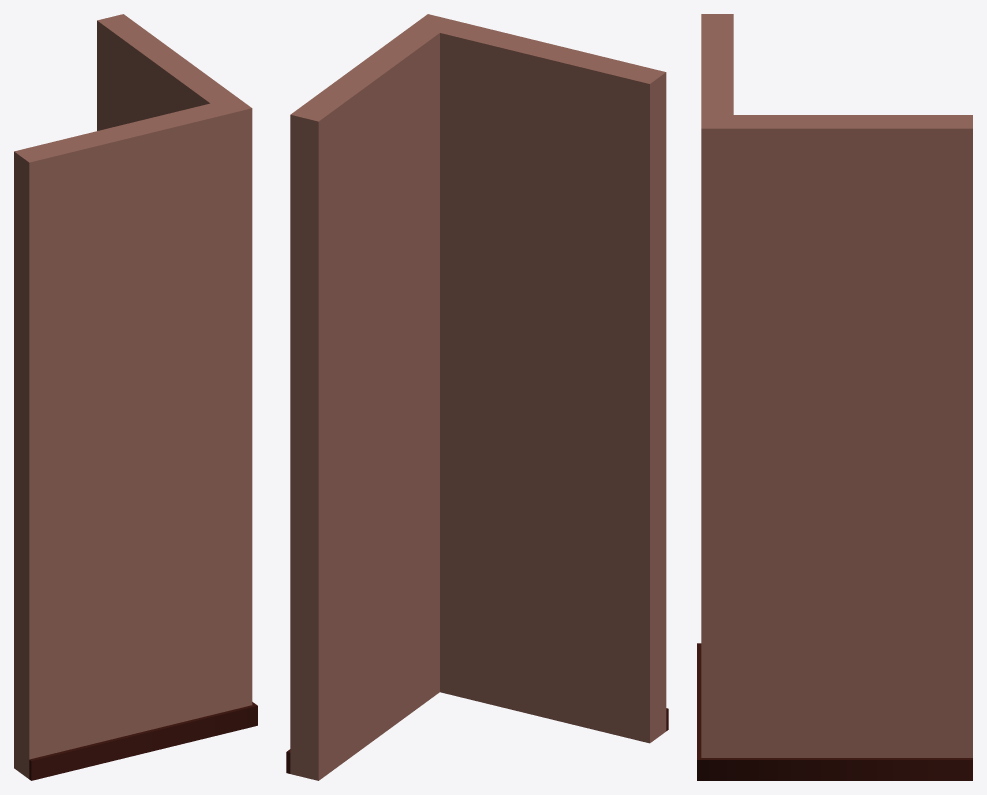
Rendered from T_AngleInt_02.fbx.
The picture shows the model from 3 angles, left to right: view 1: azimuth 30°, elevation 25°; view 2: azimuth 150°, elevation 25°; view 3: azimuth 270°, elevation 25°; orthographic projection. The views are drawn at different scales.
Parts seen in each view (by area): view 1: T_AngleInt_02; view 2: T_AngleInt_02; view 3: T_AngleInt_02.
Part boxes in pixels (bbox=[...]): T_AngleInt_02: bbox=[14, 14, 257, 780]; T_AngleInt_02: bbox=[286, 14, 668, 780]; T_AngleInt_02: bbox=[697, 14, 972, 780].
Bounding box in the file's own units: 115 × 300 × 115.
